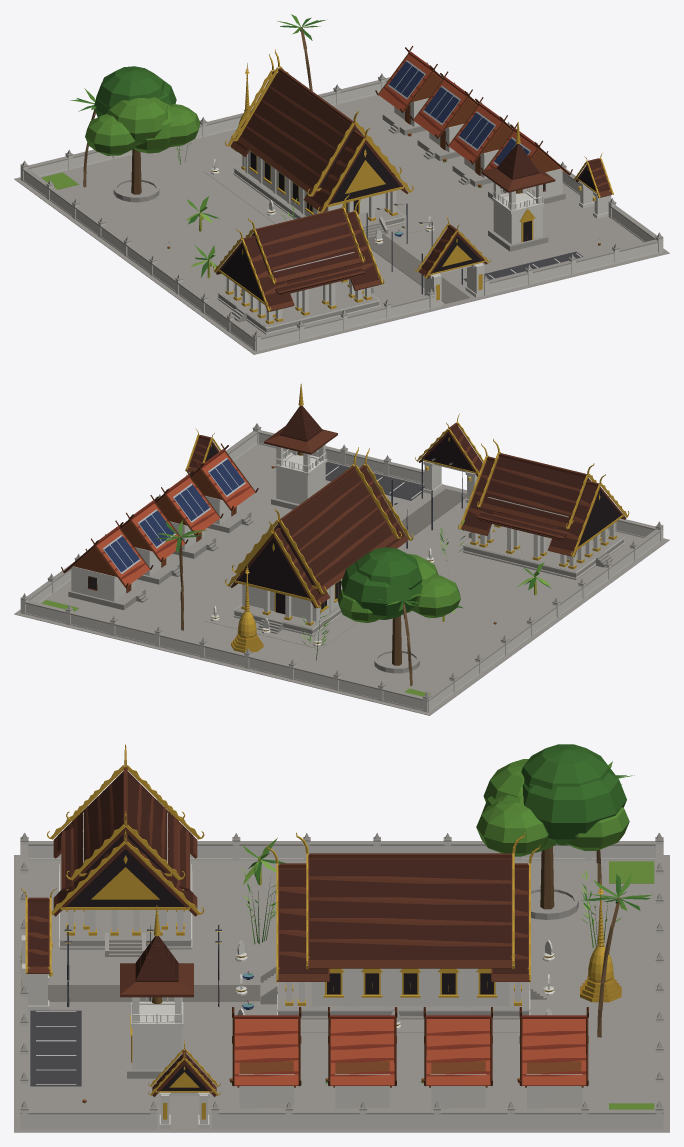
Rendered from temple_2.glb.
3 renders of one model, top to bottom at view 1: azimuth 30°, elevation 25°; view 2: azimuth 150°, elevation 25°; view 3: azimuth 270°, elevation 25°, orthographic. The views are drawn at different scales.
Visible parts, largest first — view 1: body; view 2: body; view 3: body.
Boxes of the visible parts, x1,y1,x2,y2 form: body: (14,14,669,354); body: (14,383,669,715); body: (14,744,669,1132).
Size of the model in its own units: 47.9 by 13.33 by 47.9.
